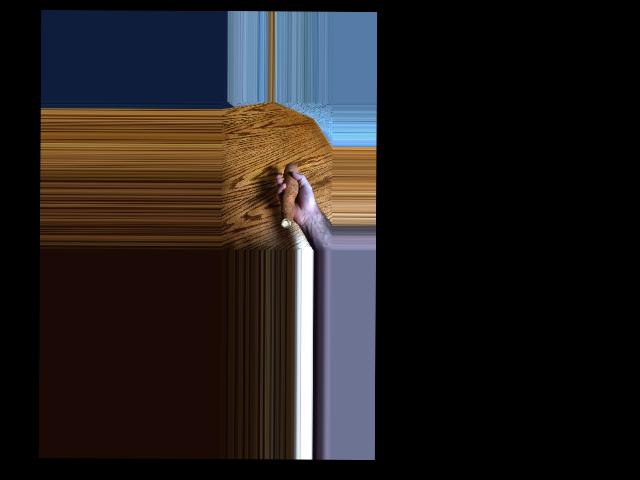sweet_potato: (278, 159, 295, 230)
